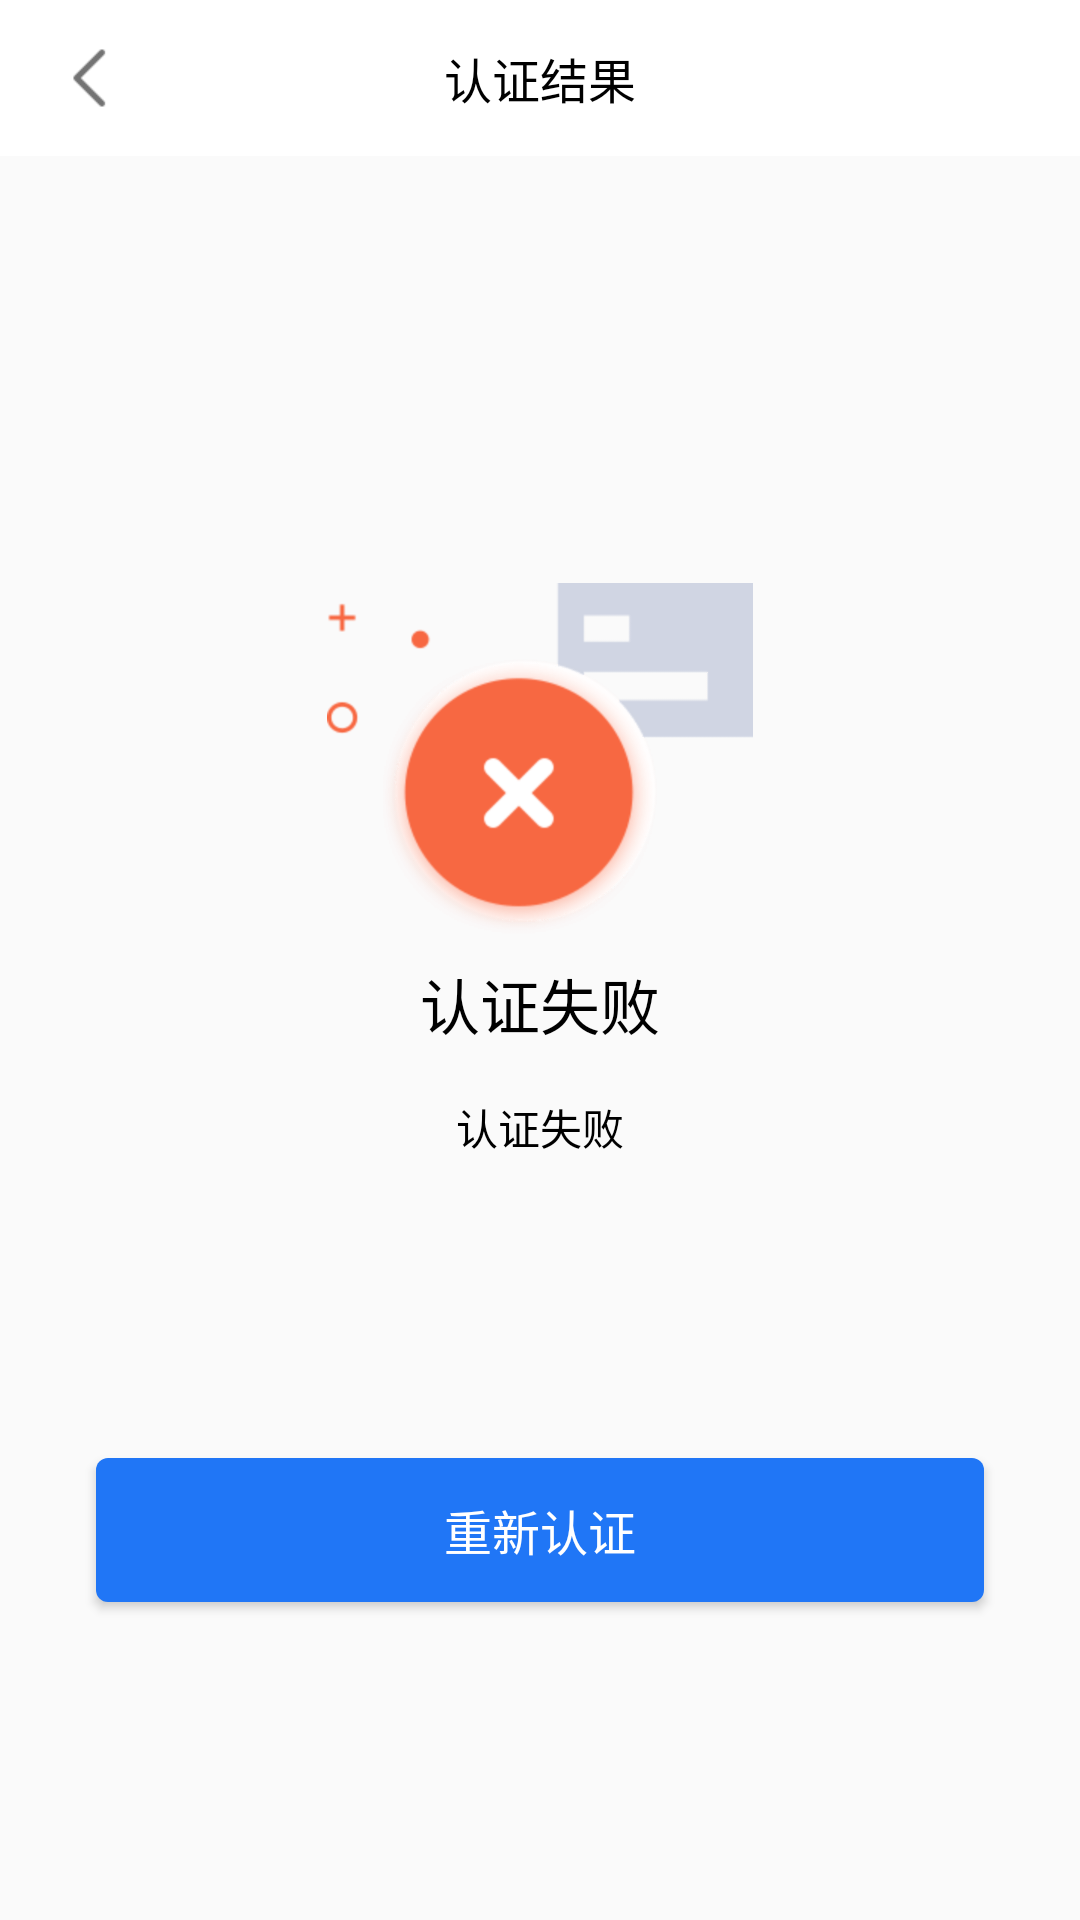

Where icons sit on this 1080 × 1920 app screen, as {"left": x1, "top": y1, "right": x2, "bottom": y2}:
back: {"left": 73, "top": 49, "right": 105, "bottom": 107}
